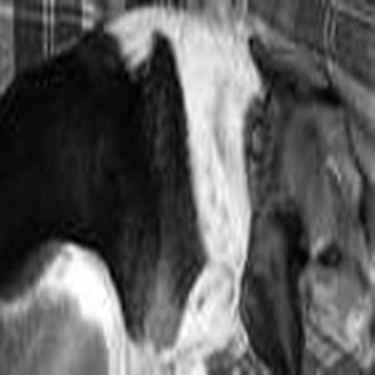dog: (2, 2, 371, 373)
